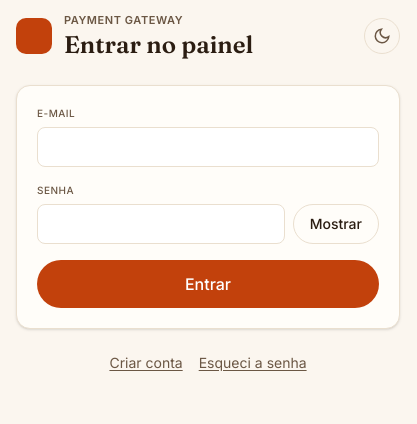
LoginPage › saysTheCredentialsAreWrongAndClearsThePassword
Step 1. Type "ana@loja.com" into the field labelled "E-mail" → point(208, 146), box [37,126,379,166]
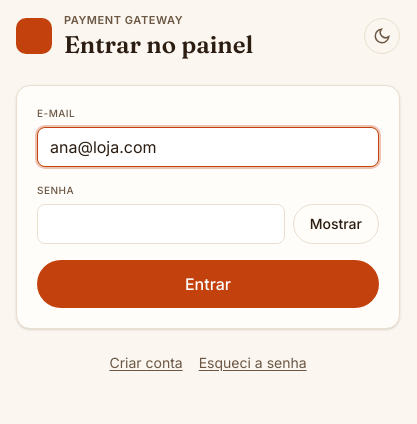
Step 2. Type "senha-correta-1" into the password field labelled "Senha" → point(161, 224), box [37,204,285,244]
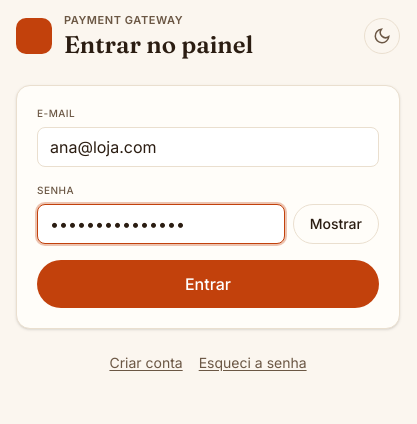
Step 3. Click the button "Entrar" → point(208, 284), box [37,260,379,308]
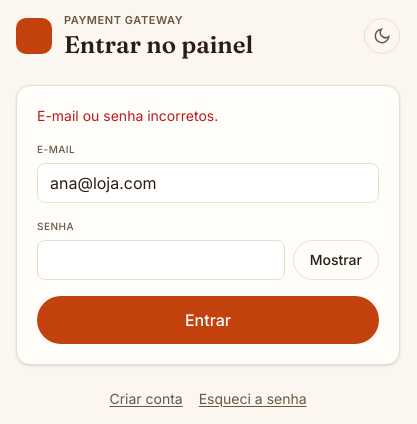
Result: the message reads "E-mail ou senha incorretos." at [37,106,218,124]
Result: the password field labelled "Senha" is empty at [37,240,285,280]
